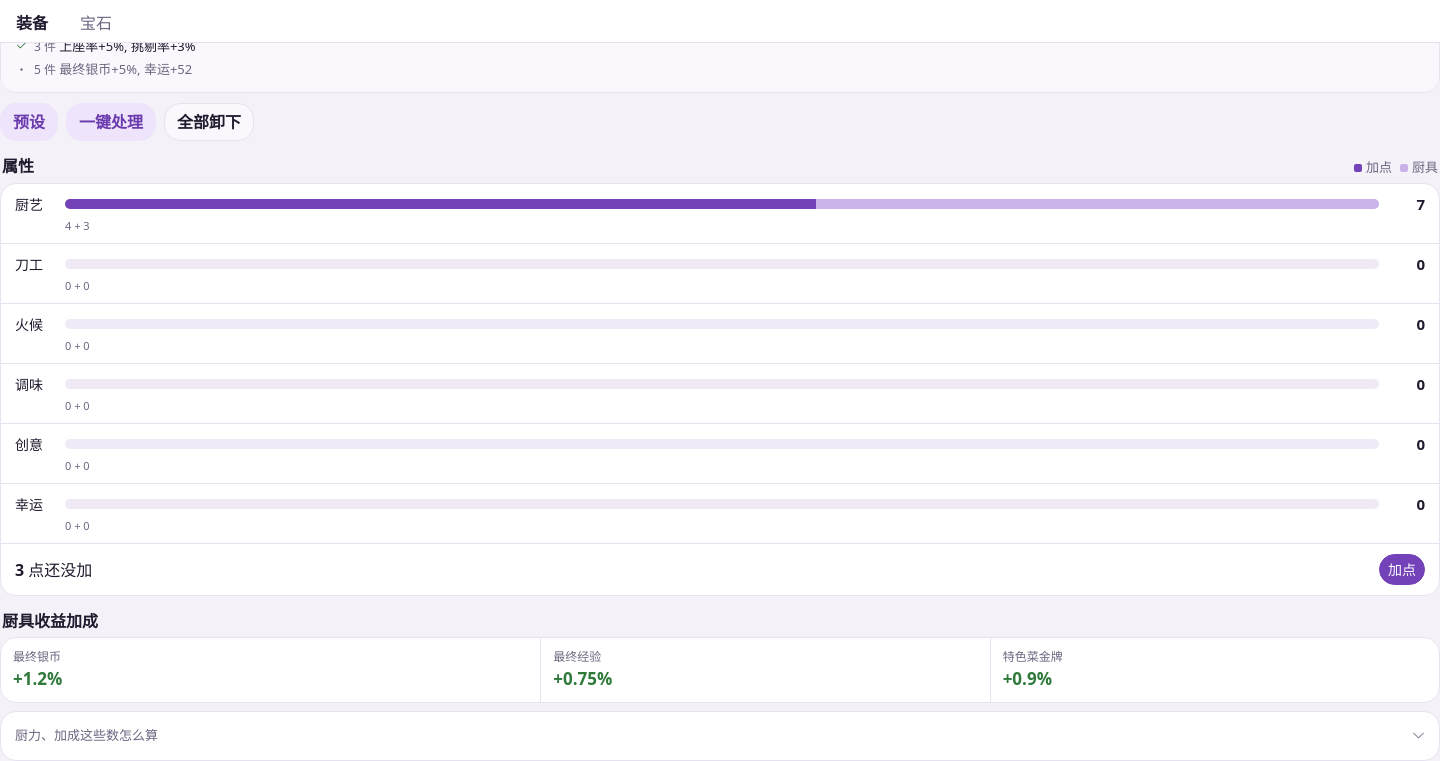
EquipView › 部位格子配图（铲、刀、锅、瓶、帽）；加点是步进器（界面改版 P3）
(page scrolled)
Click the button with test id "open-points" at (1402, 570), box [1379,554,1425,585]
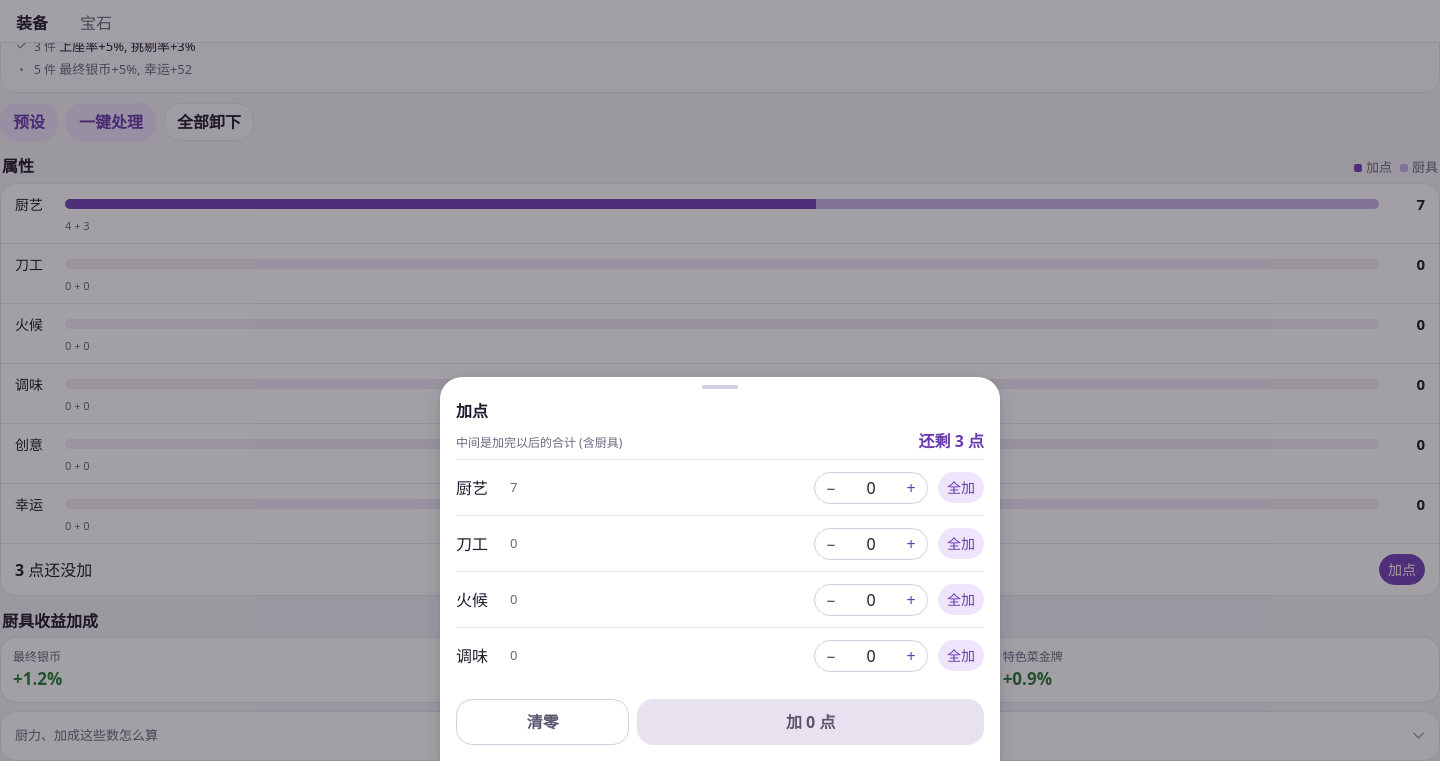
Result: the element with test id "add-cook" is shown at [814,472,928,504]
